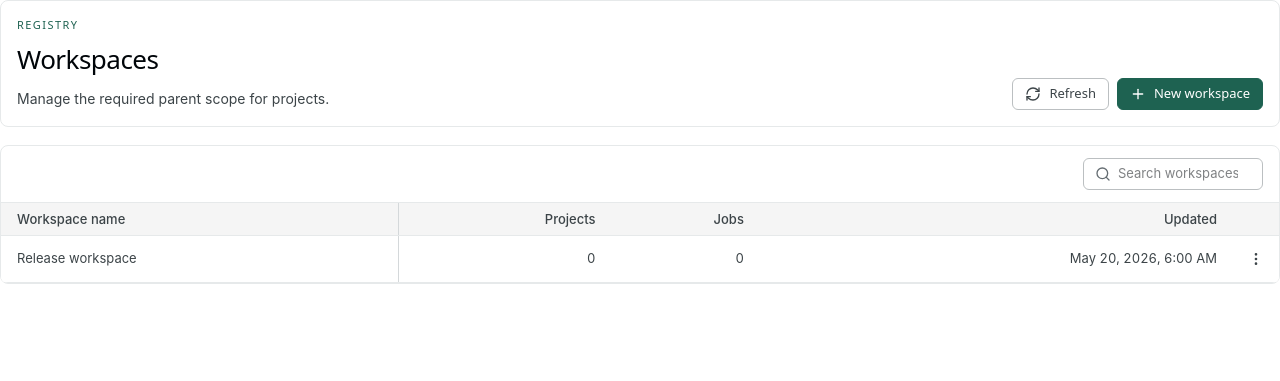
Test case: RegistryWorkspacesPage › blames the search when a search matches nothing
The width and height of the screenshot is (1280, 381).
Check: the link "Release workspace" is shown, box [17, 250, 137, 266]
Step 1. Type "zzz" into the search field labelled "Search workspaces" → (1184, 174), box [1118, 164, 1251, 184]
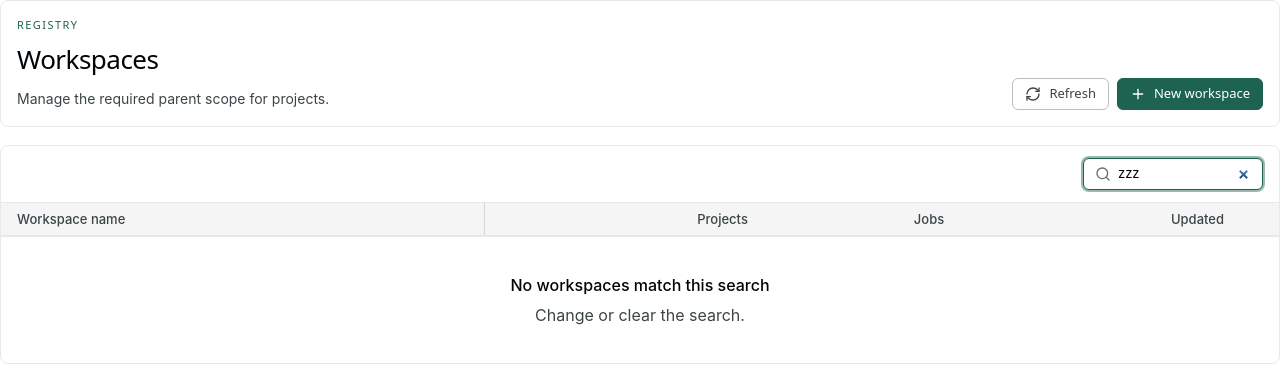
Check: the text "No workspaces match this search" is shown, box [510, 273, 770, 297]
Check: the text "Change or clear the search." is shown, box [535, 303, 745, 327]
